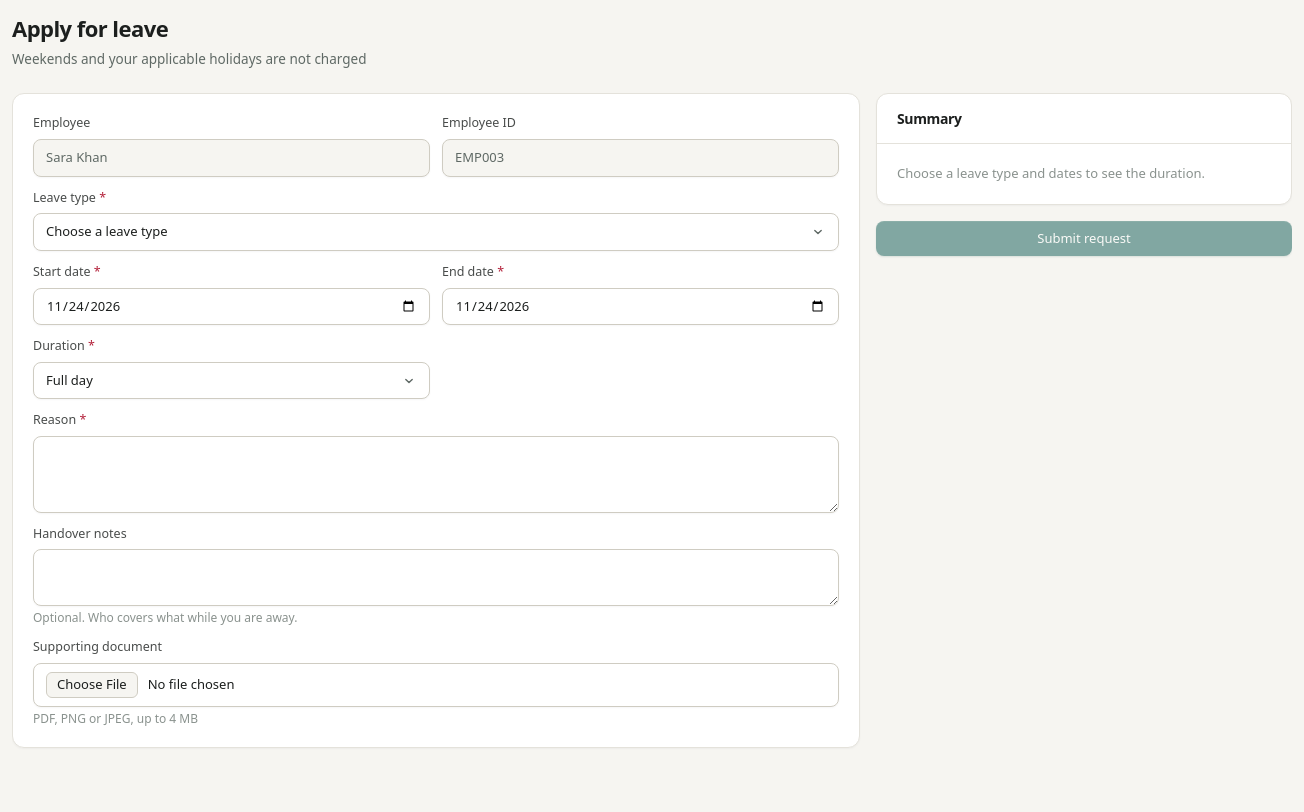
Test: leave application form › reason › is still needed for leave that goes to an approver
Select "Casual Leave (CL)" in the dropdown labelled "Leave type *" at [436, 232], box [33,213,839,251]
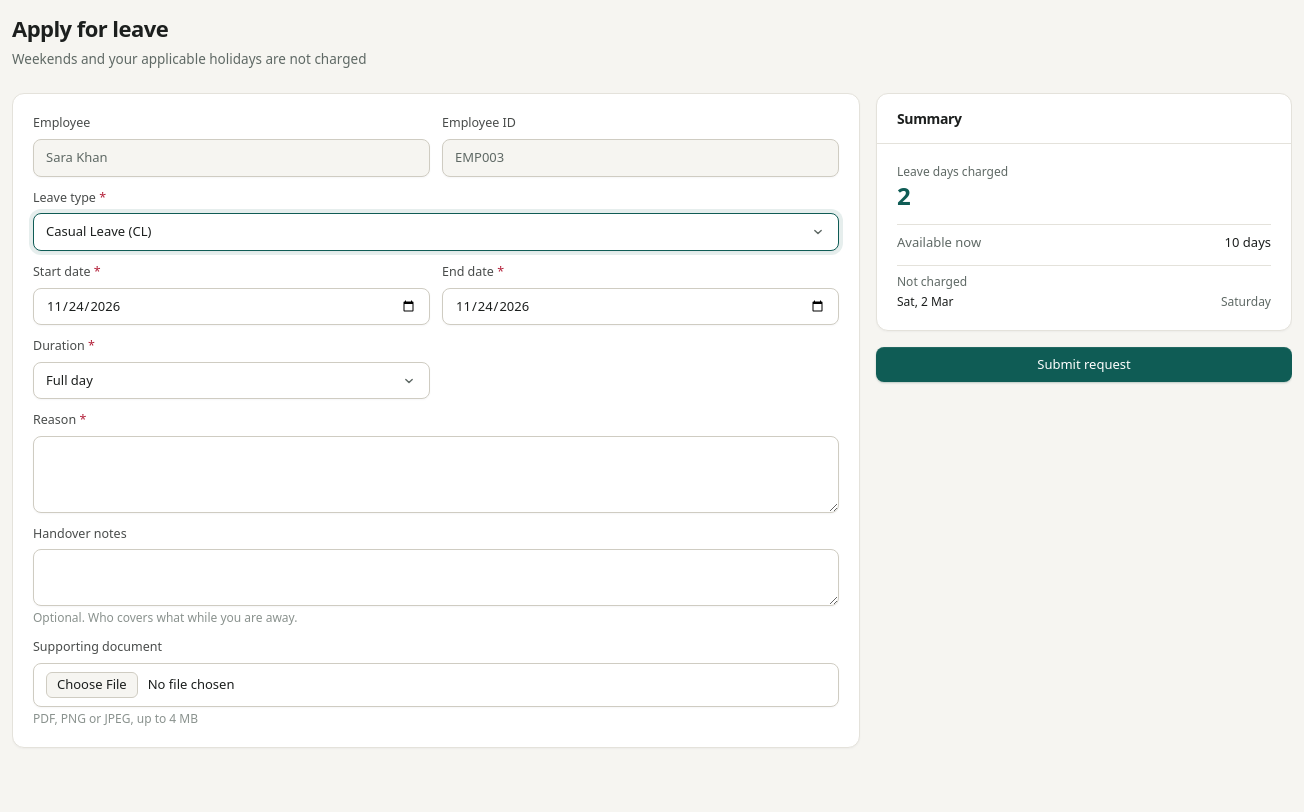
Now the text "2" is shown, box [897,179,911,212]
Click the button "Submit request" at [1084, 365], box [876,347,1292,382]
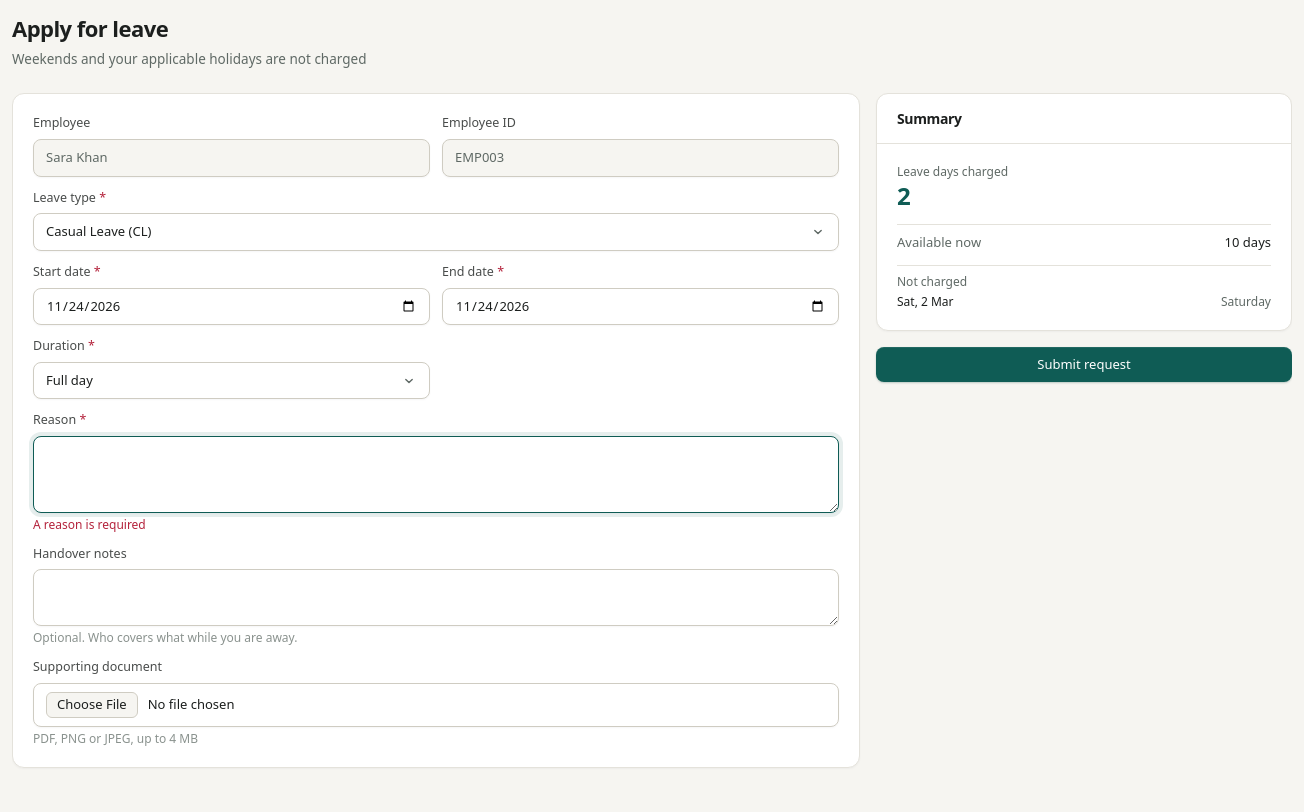
Now the text "A reason is required" is shown, box [33,516,146,532]
